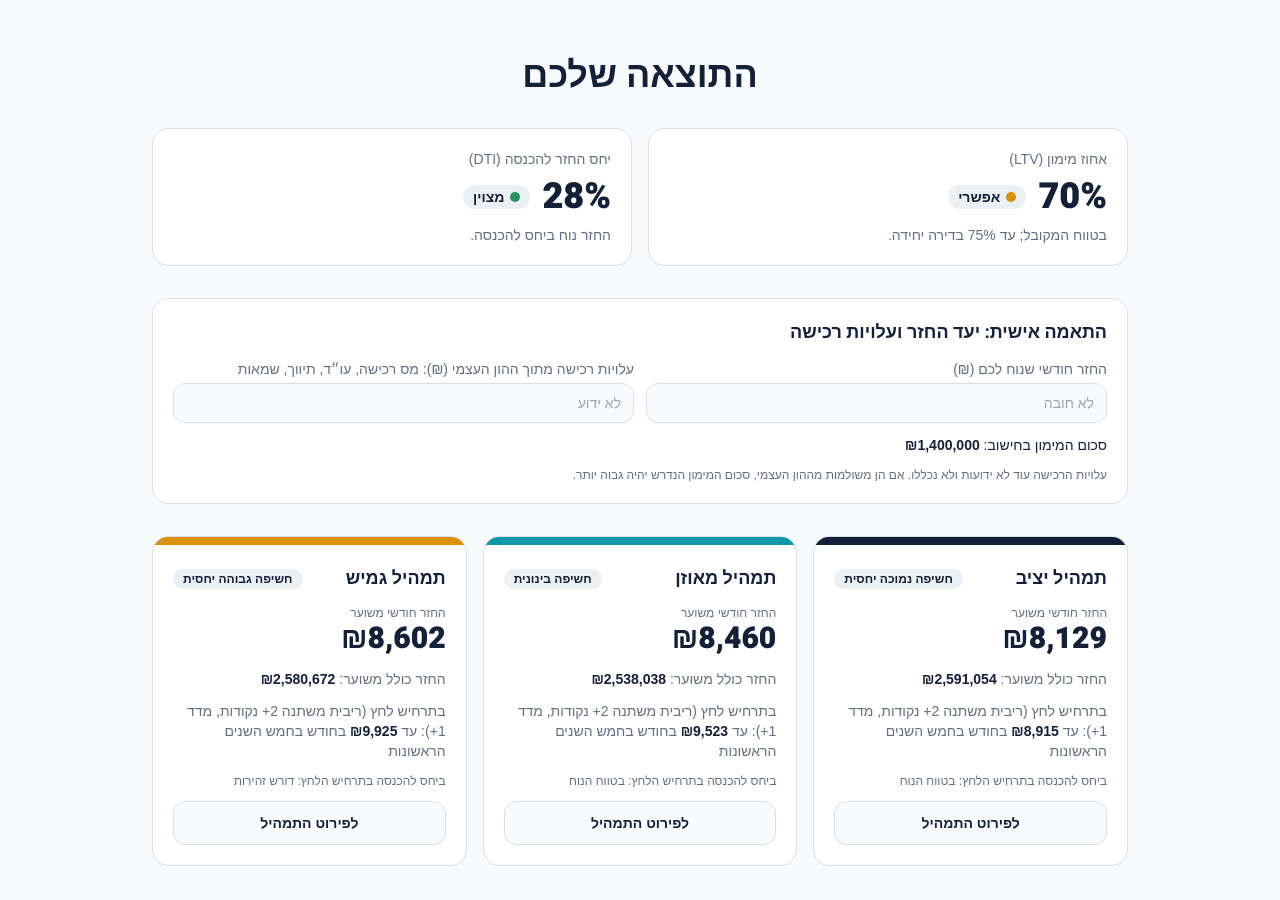
Test: new mortgage: target payment and purchase costs (#52, #57 item 3) › unknown purchase costs are not assumed; entering them raises the loan the mixes are built on
The image size is (1280, 900).
Check: the text "עלויות הרכישה עוד לא ידועות ולא נכללו" is shown, box left=573, top=468, right=1107, bottom=482
In the field labelled "עלויות רכישה מתוך ההון העצמי": {"x": 404, "y": 403} left=173, top=383, right=634, bottom=423, type "120,000"
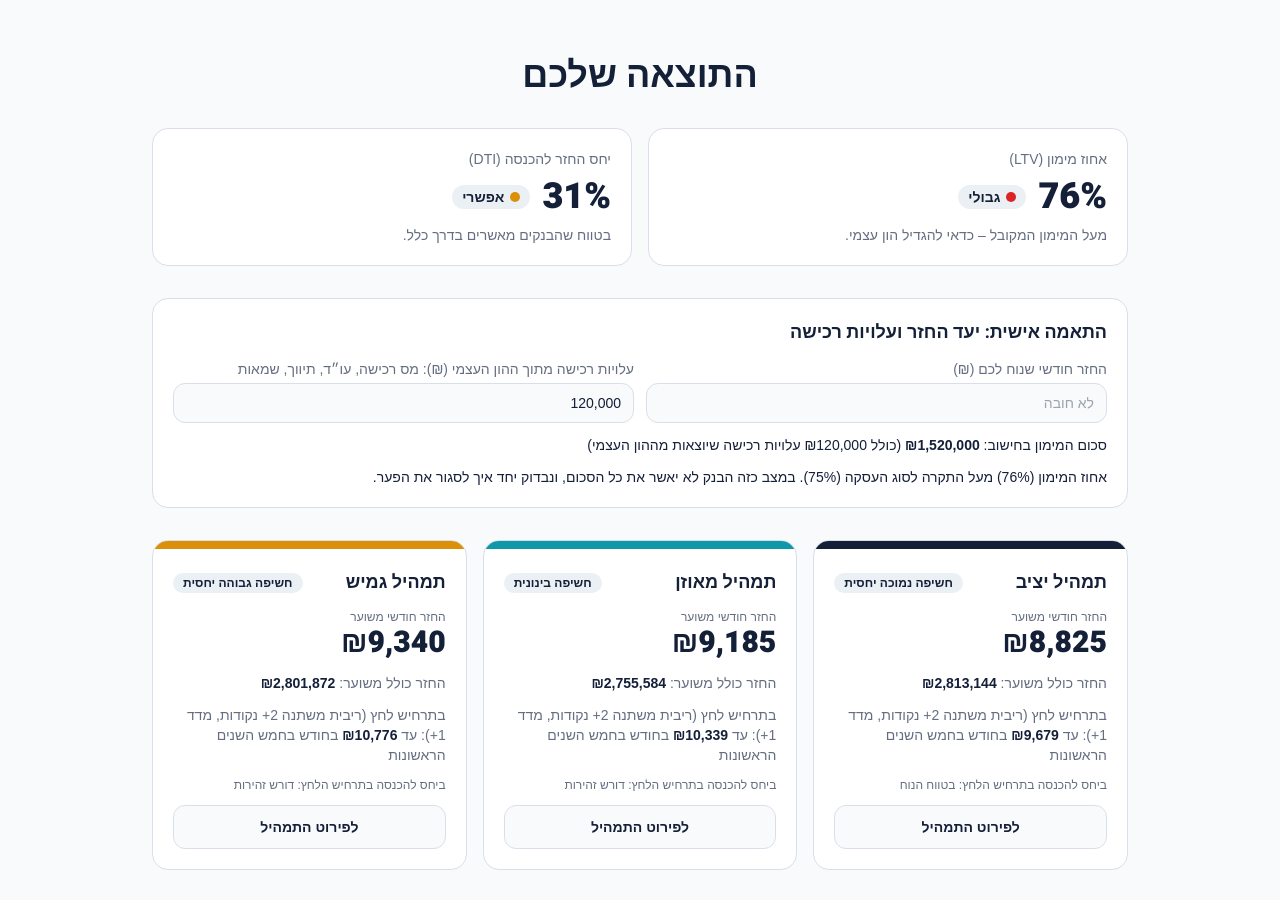
Check: the text "כולל ₪120,000 עלויות רכישה" is shown, box left=587, top=437, right=905, bottom=453
